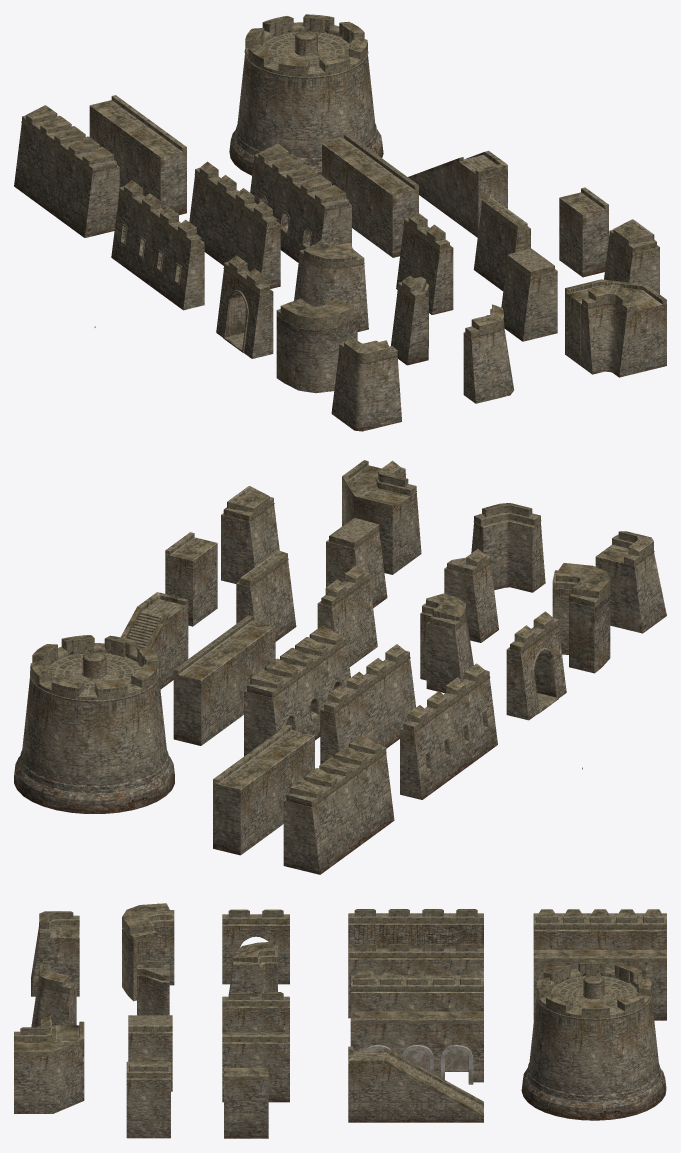
Rendered from modular_fort_polyhaven.glb.
3 views of the same model, one above another, from view 1: azimuth 30°, elevation 25°; view 2: azimuth 150°, elevation 25°; view 3: azimuth 270°, elevation 25° (orthographic). The views are drawn at different scales.
Visible parts, largest first — view 1: modular_fort_01_tower_round, modular_fort_01_wall_thick_straight_01, modular_fort_01_wall_thin_straight_02, modular_fort_01_wall_thick_straight_02, modular_fort_01_wall_thin_straight_01, modular_fort_01_wall_walkway_straight_01, modular_fort_01_wall_walkway_straight_02, modular_fort_01_wall_thick_corner_02, modular_fort_01_wall_thin_corner_02, modular_fort_01_wall_thin_corner_01, modular_fort_01_wall_stairs_straight_01, modular_fort_01_wall_thin_gate_01 (+9 smaller); view 2: modular_fort_01_tower_round, modular_fort_01_wall_thick_straight_01, modular_fort_01_wall_thin_straight_02, modular_fort_01_wall_walkway_straight_01, modular_fort_01_wall_walkway_straight_02, modular_fort_01_wall_thick_straight_02, modular_fort_01_wall_thin_straight_01, modular_fort_01_wall_thick_corner_02, modular_fort_01_wall_thin_corner_03, modular_fort_01_wall_thin_gate_01, modular_fort_01_wall_thick_corner_01, modular_fort_01_wall_thick_end_02 (+10 smaller); view 3: modular_fort_01_tower_round, modular_fort_01_wall_stairs_straight_01, modular_fort_01_wall_walkway_straight_01, modular_fort_01_wall_walkway_corner_01, modular_fort_01_wall_thick_straight_02, modular_fort_01_wall_thick_straight_01, modular_fort_01_wall_thin_straight_02, modular_fort_01_wall_thin_straight_01, modular_fort_01_wall_thick_end_02, modular_fort_01_wall_thick_corner_02, modular_fort_01_wall_walkway_straight_02, modular_fort_01_wall_thin_straight_03 (+10 smaller).
Part boxes in pixels (x1=…): modular_fort_01_tower_round: x1=229, y1=14, x2=383, y2=175; modular_fort_01_wall_thick_straight_01: x1=14, y1=105, x2=119, y2=237; modular_fort_01_wall_thin_straight_02: x1=111, y1=180, x2=204, y2=310; modular_fort_01_wall_thick_straight_02: x1=250, y1=143, x2=351, y2=262; modular_fort_01_wall_thin_straight_01: x1=189, y1=161, x2=280, y2=288; modular_fort_01_wall_walkway_straight_01: x1=322, y1=133, x2=418, y2=257; modular_fort_01_wall_walkway_straight_02: x1=89, y1=95, x2=186, y2=214; modular_fort_01_wall_thick_corner_02: x1=276, y1=298, x2=357, y2=393; modular_fort_01_wall_thin_corner_02: x1=331, y1=336, x2=401, y2=431; modular_fort_01_wall_thin_corner_01: x1=580, y1=284, x2=640, y2=377; modular_fort_01_wall_stairs_straight_01: x1=408, y1=150, x2=507, y2=237; modular_fort_01_wall_thin_gate_01: x1=216, y1=255, x2=273, y2=358; modular_fort_01_tower_round: x1=14, y1=635, x2=174, y2=813; modular_fort_01_wall_thick_straight_01: x1=283, y1=735, x2=394, y2=874; modular_fort_01_wall_thin_straight_02: x1=400, y1=663, x2=497, y2=799; modular_fort_01_wall_walkway_straight_01: x1=173, y1=615, x2=275, y2=745; modular_fort_01_wall_walkway_straight_02: x1=213, y1=724, x2=314, y2=855; modular_fort_01_wall_thick_straight_02: x1=244, y1=626, x2=350, y2=756; modular_fort_01_wall_thin_straight_01: x1=320, y1=644, x2=415, y2=764; modular_fort_01_wall_thick_corner_02: x1=552, y1=563, x2=610, y2=673; modular_fort_01_wall_thin_corner_03: x1=471, y1=503, x2=545, y2=592; modular_fort_01_wall_thin_gate_01: x1=506, y1=611, x2=566, y2=720; modular_fort_01_wall_thick_corner_01: x1=420, y1=593, x2=473, y2=693; modular_fort_01_wall_thick_end_02: x1=221, y1=486, x2=279, y2=583; modular_fort_01_tower_round: x1=521, y1=960, x2=666, y2=1120; modular_fort_01_wall_stairs_straight_01: x1=348, y1=1046, x2=483, y2=1122; modular_fort_01_wall_walkway_straight_01: x1=350, y1=1011, x2=483, y2=1084; modular_fort_01_wall_walkway_corner_01: x1=14, y1=1021, x2=84, y2=1113; modular_fort_01_wall_thick_straight_02: x1=350, y1=971, x2=483, y2=1011; modular_fort_01_wall_thick_straight_01: x1=533, y1=909, x2=666, y2=949; modular_fort_01_wall_thin_straight_02: x1=348, y1=909, x2=483, y2=948; modular_fort_01_wall_thin_straight_01: x1=348, y1=943, x2=483, y2=1018; modular_fort_01_wall_thick_end_02: x1=126, y1=1057, x2=170, y2=1138; modular_fort_01_wall_thick_corner_02: x1=122, y1=903, x2=174, y2=1001; modular_fort_01_wall_walkway_straight_02: x1=533, y1=950, x2=666, y2=1020; modular_fort_01_wall_thin_straight_03: x1=222, y1=1032, x2=289, y2=1102.
Bounding box in the file's own units: 52.73 × 13.67 × 71.38.
Materials: 5 (5 with a texture image).
